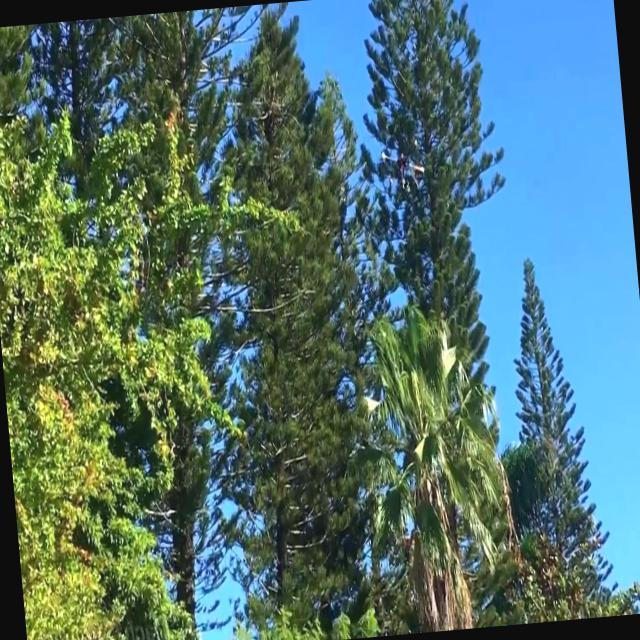drone: (378, 138, 424, 196)
